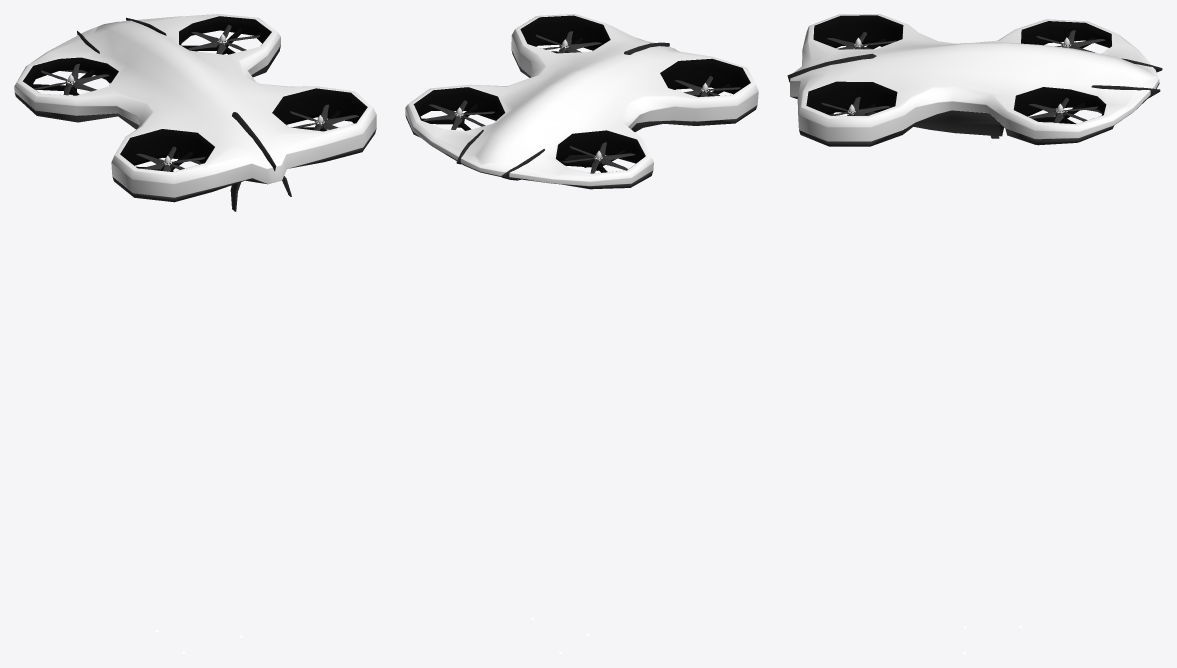
File: Drone1.glb
3 views of the same model, side by side, from view 1: azimuth 30°, elevation 25°; view 2: azimuth 150°, elevation 25°; view 3: azimuth 270°, elevation 25° (orthographic). The views are drawn at different scales.
Parts seen in each view (by area): view 1: Drone MPlex Logo; view 2: Drone MPlex Logo; view 3: Drone MPlex Logo.
Boxes of the visible parts, x1=… form: Drone MPlex Logo: x1=14, y1=14, x2=376, y2=653; Drone MPlex Logo: x1=405, y1=14, x2=758, y2=653; Drone MPlex Logo: x1=787, y1=14, x2=1162, y2=653.
Bounding box in the file's own units: 3.69 × 8.33 × 4.81.
Materials: 15 (2 with a texture image).
